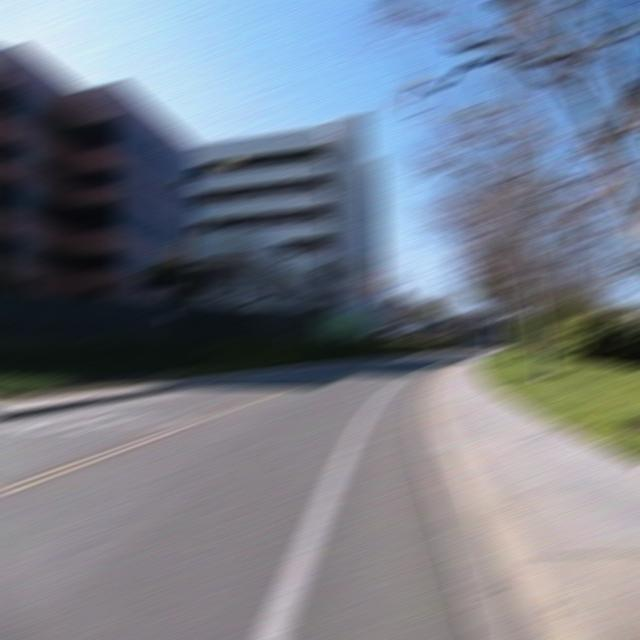speedLimit35: (478, 298, 504, 322)
